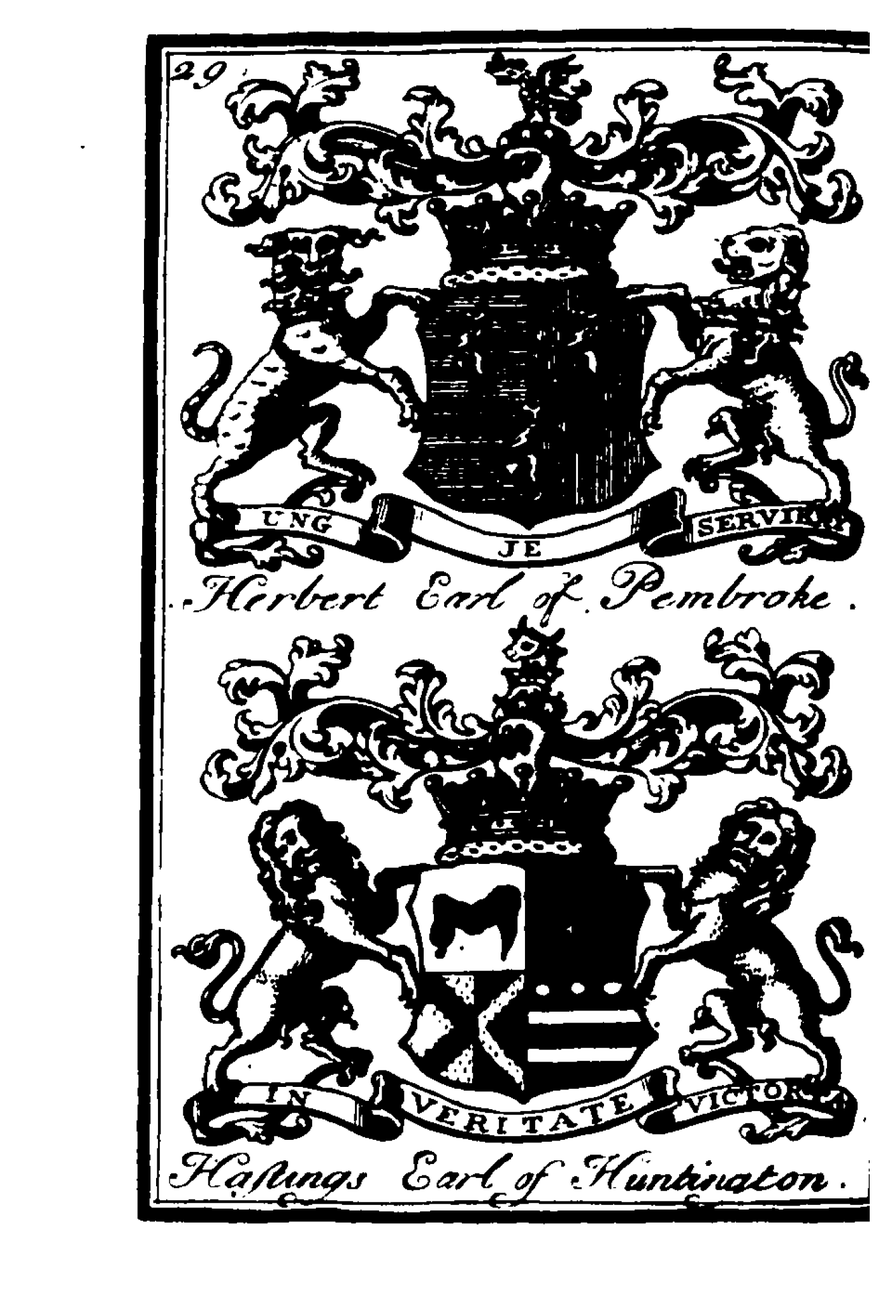coat_of_arms: (173, 54, 880, 624), (177, 628, 863, 1191)
